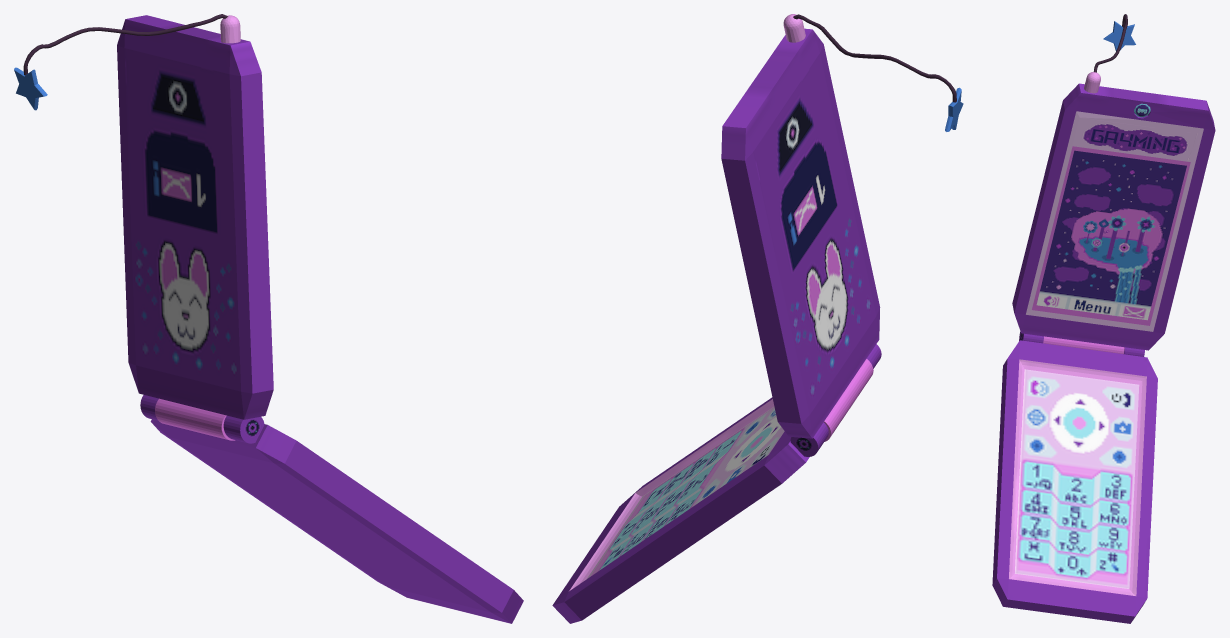
File: Low_Poly_FlipPhone.glb
3 views of the same model, side by side, from view 1: azimuth 30°, elevation 25°; view 2: azimuth 150°, elevation 25°; view 3: azimuth 270°, elevation 25° (orthographic). The views are drawn at different scales.
Parts seen in each view (by area): view 1: top_FP_UVTex_0, bottom_FP_UVTex_0, cable_CABLE COLOR_0, star_FP_UVTex_0; view 2: top_FP_UVTex_0, bottom_FP_UVTex_0, cable_CABLE COLOR_0; view 3: bottom_FP_UVTex_0, top_FP_UVTex_0, star_FP_UVTex_0.
Part boxes in pixels (bbox=[...]): top_FP_UVTex_0: bbox=[117, 15, 273, 443]; bottom_FP_UVTex_0: bbox=[150, 398, 523, 623]; cable_CABLE COLOR_0: bbox=[23, 14, 227, 75]; star_FP_UVTex_0: bbox=[14, 67, 47, 110]; top_FP_UVTex_0: bbox=[721, 14, 881, 456]; bottom_FP_UVTex_0: bbox=[552, 359, 873, 623]; cable_CABLE COLOR_0: bbox=[793, 14, 956, 102]; bottom_FP_UVTex_0: bbox=[992, 336, 1157, 623]; top_FP_UVTex_0: bbox=[1012, 72, 1215, 356]; star_FP_UVTex_0: bbox=[1103, 21, 1135, 51].
Size of the model in its own units: 9.08 by 13.32 by 5.6.
Materials: 2 (1 with a texture image).
